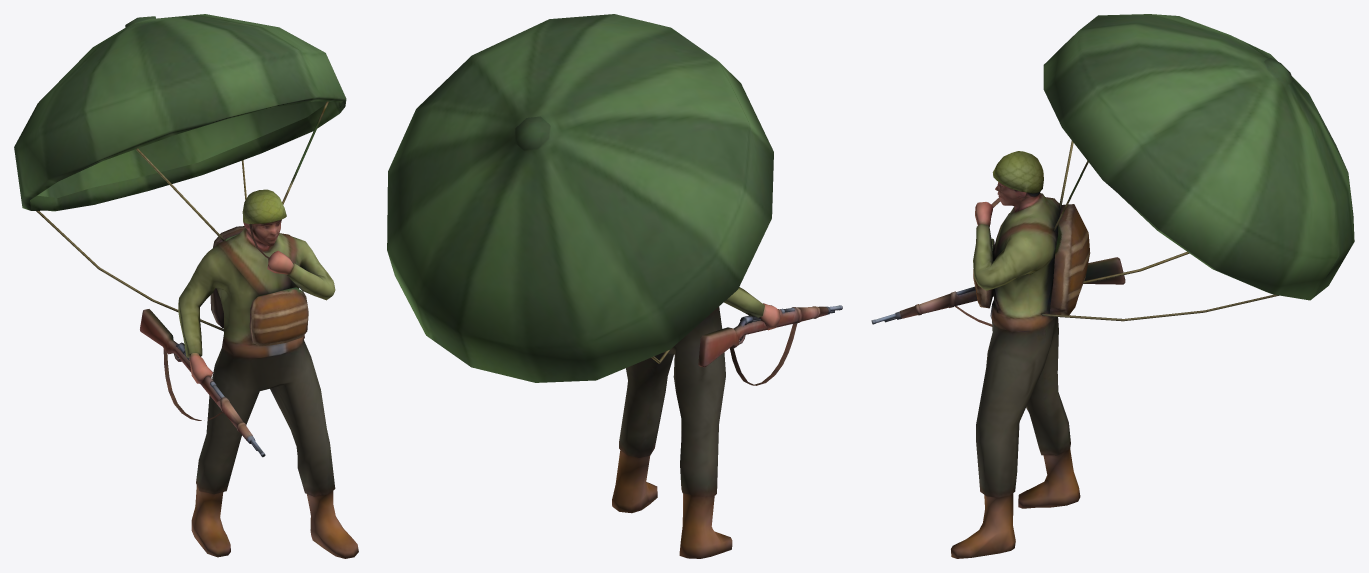
The model's file is Paratroopers.glb.
The picture shows the model from 3 angles, left to right: view 1: azimuth 30°, elevation 25°; view 2: azimuth 150°, elevation 25°; view 3: azimuth 270°, elevation 25°; orthographic projection. The views are drawn at different scales.
Parts seen in each view (by area): view 1: aac_low.001, chara_low, aac_low; view 2: aac_low.001, chara_low; view 3: aac_low.001, chara_low, aac_low.
Boxes of the visible parts, x1,y1,x2,y2 form: aac_low.001: (14,14,346,211); chara_low: (140,189,358,558); aac_low: (36,101,328,346); aac_low.001: (387,14,773,382); chara_low: (612,287,842,558); aac_low.001: (1043,14,1354,300); chara_low: (871,151,1125,558); aac_low: (973,140,1278,321).
Size of the model in its own units: 1.49 by 2.26 by 2.
Materials: 2 (2 with a texture image).
